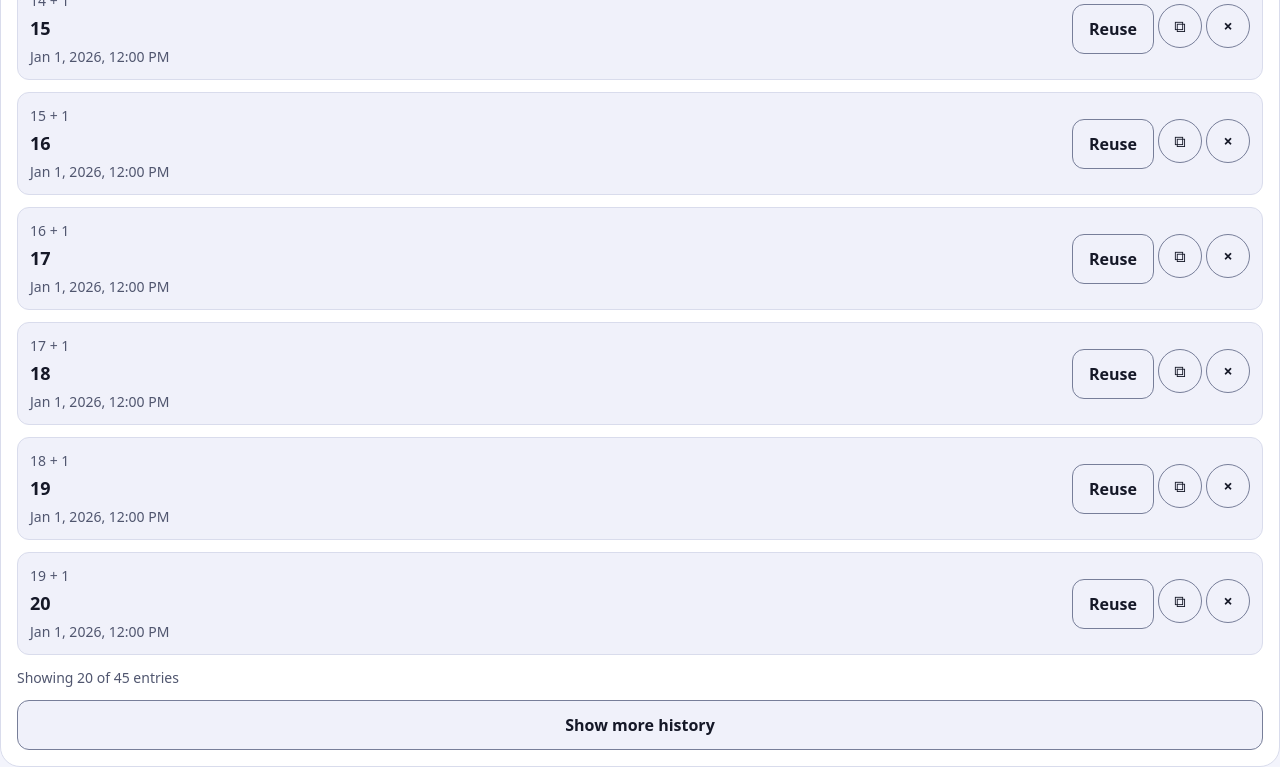
HistoryPanel › shows large lists in twenty-entry increments without losing items or order
(page scrolled)
Check: the text "Showing 20 of 45 entries" is shown, box [17,668,179,687]
What coordinates should you click on to do the following:
click the button "Show more history"
I would click on:
 (640, 725)
Its box is [17,700,1263,750].
(page scrolled)
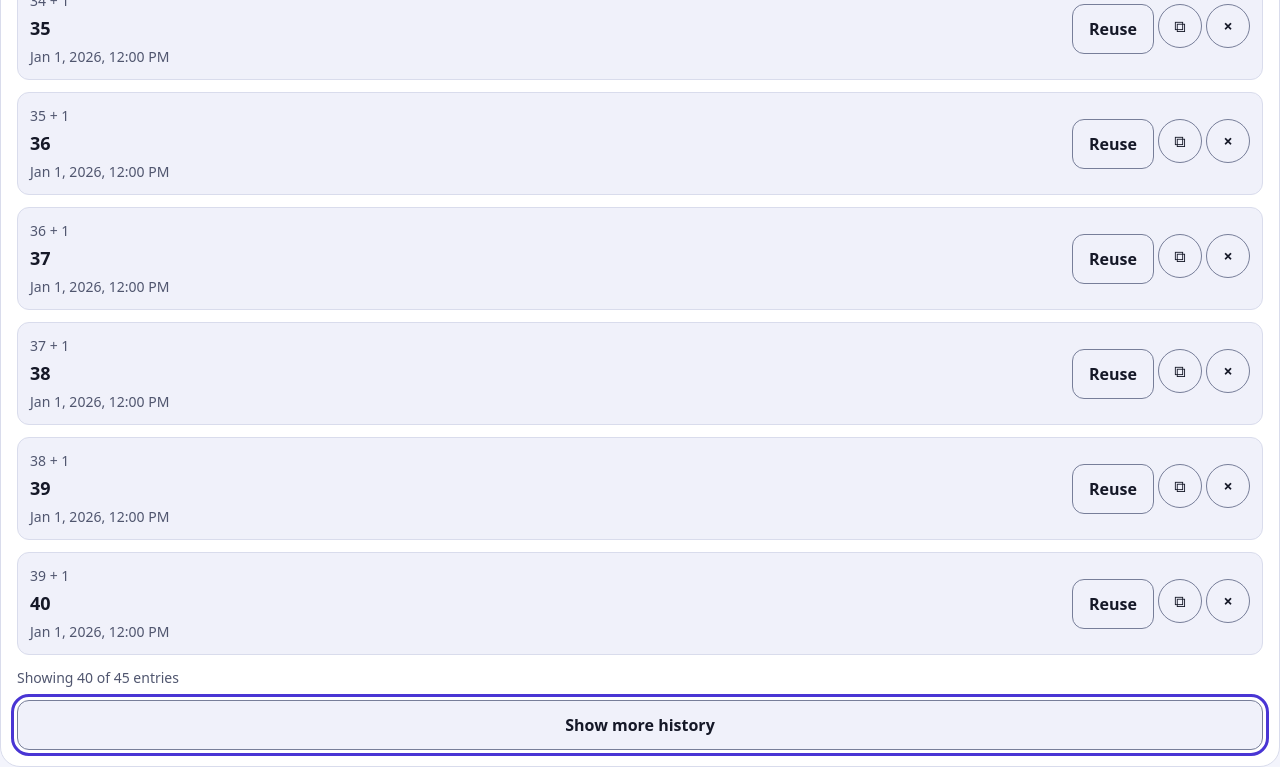
What coordinates should you click on to do the following:
click the button "Show more history"
I would click on:
 (640, 725)
Its box is [17,700,1263,750].
(page scrolled)
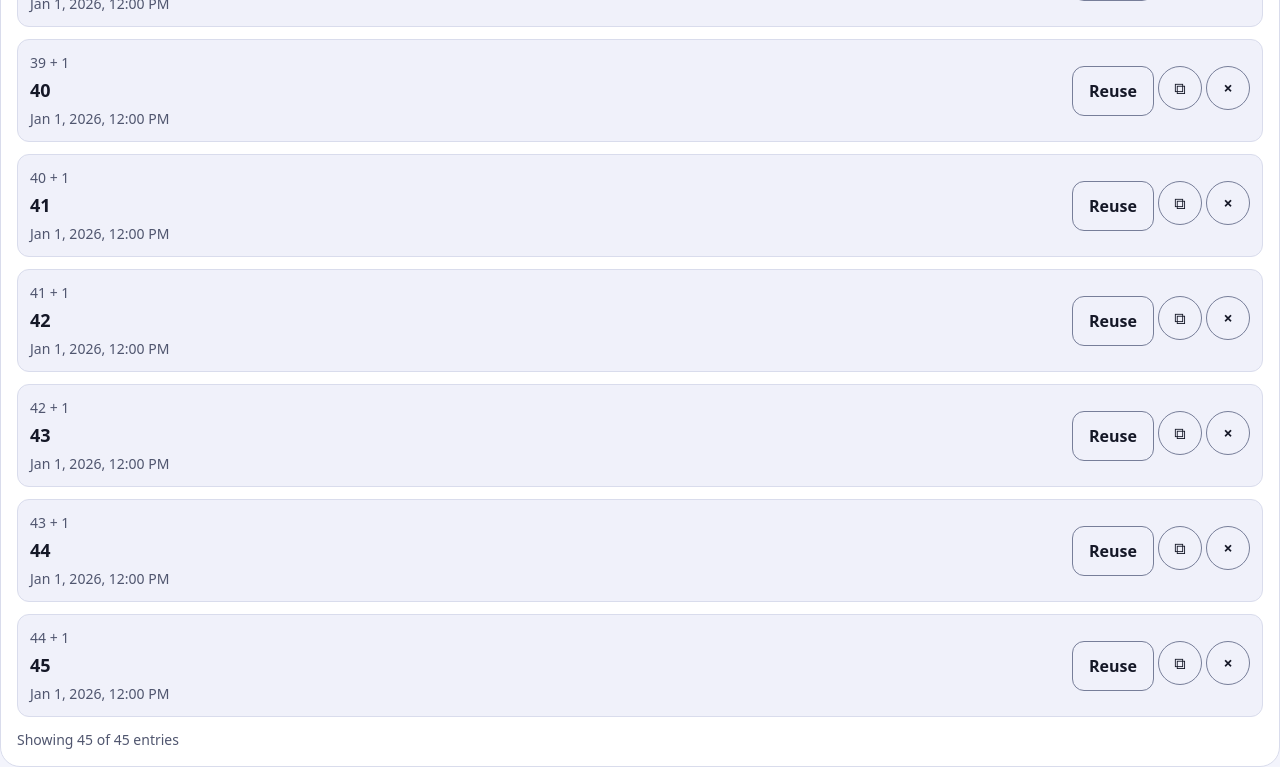
Check: the button "Show more history" is gone
